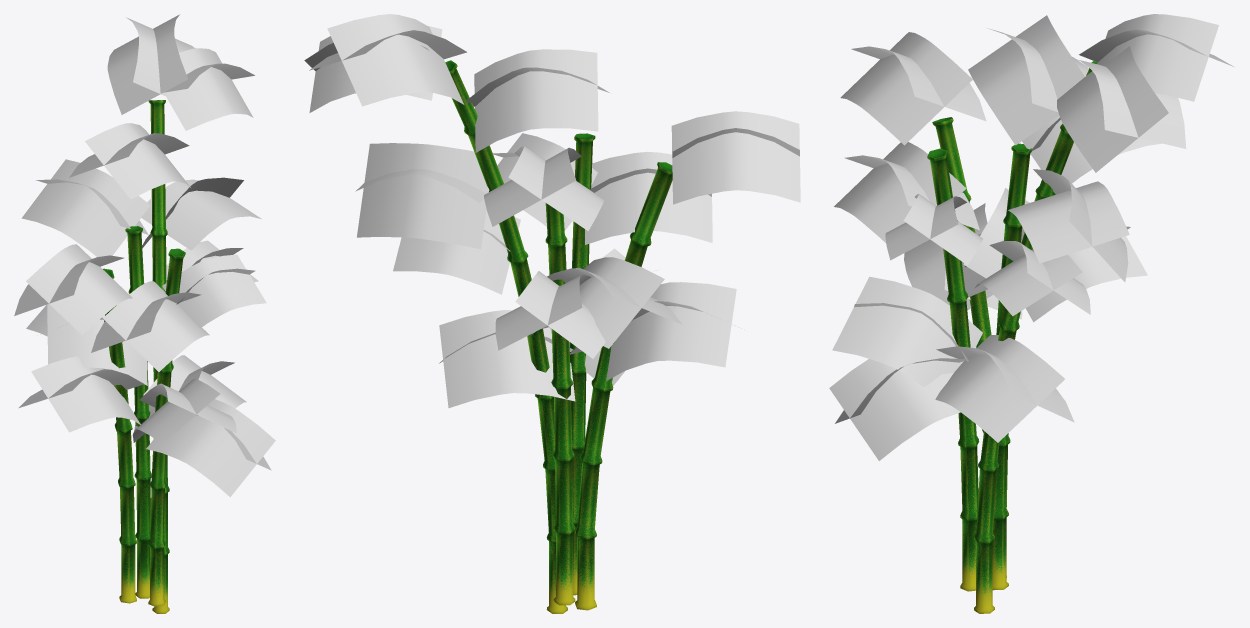
Rendered from BambooPlanta.fbx.
The picture shows the model from 3 angles, left to right: view 1: azimuth 30°, elevation 25°; view 2: azimuth 150°, elevation 25°; view 3: azimuth 270°, elevation 25°; orthographic projection. The views are drawn at different scales.
Parts seen in each view (by area): view 1: Bamboos; view 2: Bamboos; view 3: Bamboos.
Boxes of the visible parts, x1,y1,x2,y2 form: Bamboos: [14, 14, 275, 613]; Bamboos: [304, 14, 800, 613]; Bamboos: [829, 14, 1233, 613].
Size of the model in its own units: 156 by 242 by 142.
